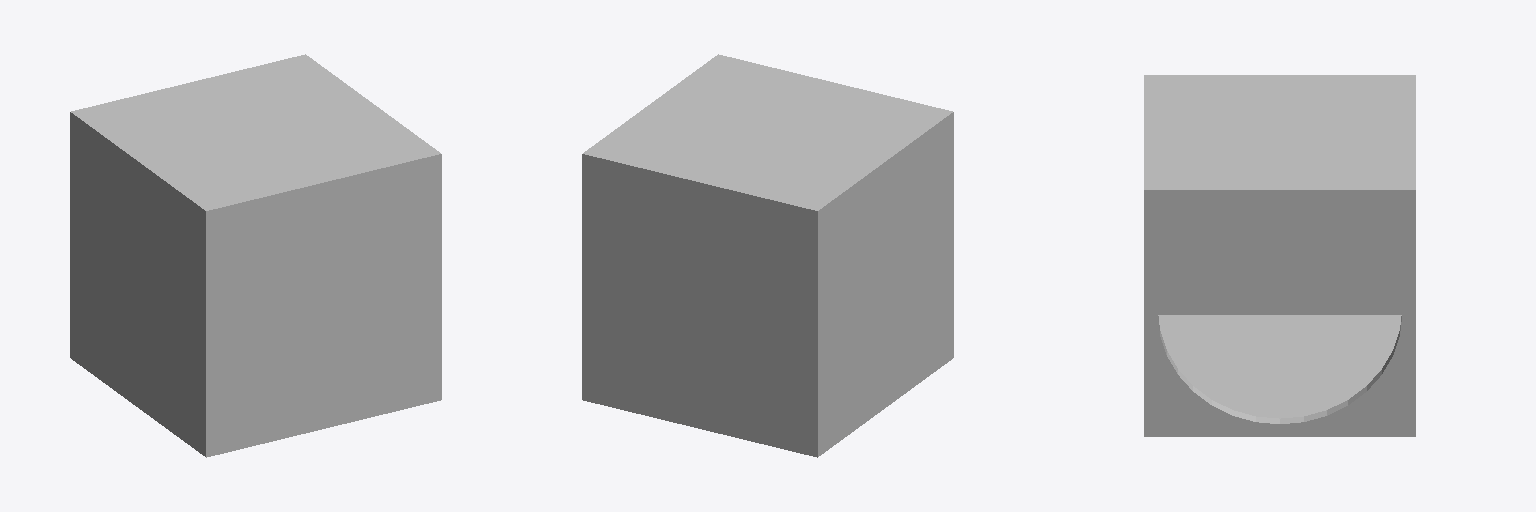
Rendered from tubes.obj.
3 views of the same model, side by side, from view 1: azimuth 30°, elevation 25°; view 2: azimuth 150°, elevation 25°; view 3: azimuth 270°, elevation 25° (orthographic).
Visible parts, largest first — view 1: Cube; view 2: Cube; view 3: Cube.
Part boxes in pixels (x1,y1,x2,y2): Cube: (70, 54, 441, 457); Cube: (582, 54, 953, 457); Cube: (1144, 75, 1415, 436).
Bounding box in the file's own units: 2 × 2 × 2.